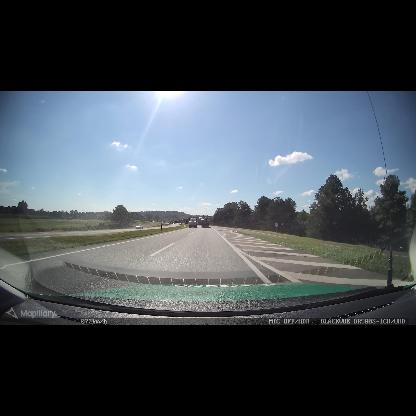R-2: (281, 223, 285, 227)
R-24a: (274, 222, 278, 228)
